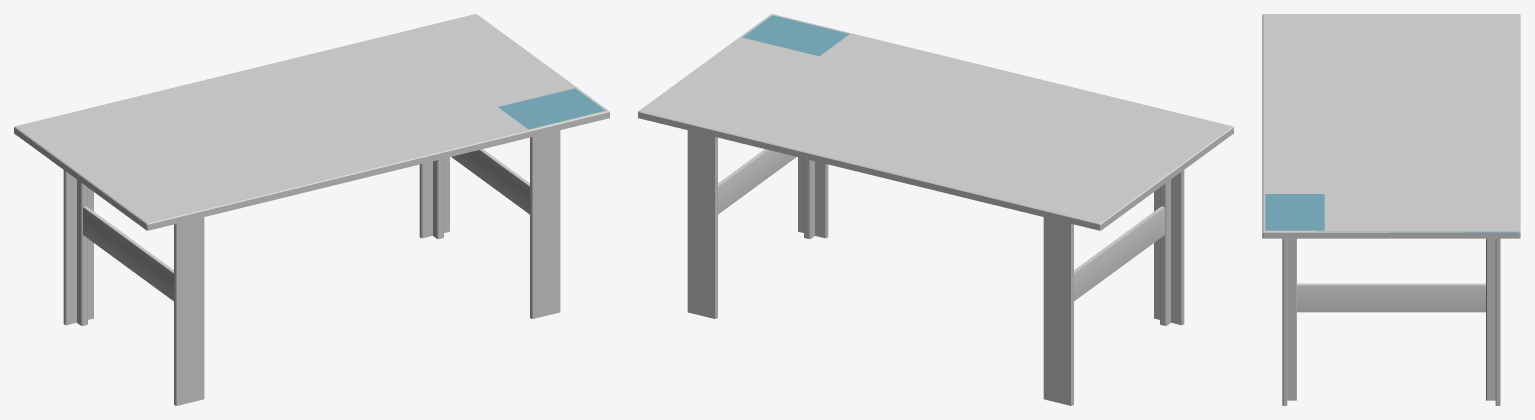
3 renders of one model, left to right at view 1: azimuth 30°, elevation 25°; view 2: azimuth 150°, elevation 25°; view 3: azimuth 270°, elevation 25°, orthographic. The views are drawn at different scales.
Visible parts, largest first — view 1: TT4122; view 2: TT4122; view 3: TT4122.
Part boxes in pixels (x1=…): TT4122: x1=14, y1=14, x2=609, y2=405; TT4122: x1=638, y1=14, x2=1233, y2=405; TT4122: x1=1262, y1=14, x2=1520, y2=405.
Size of the model in its own units: 180 by 90 by 74.
